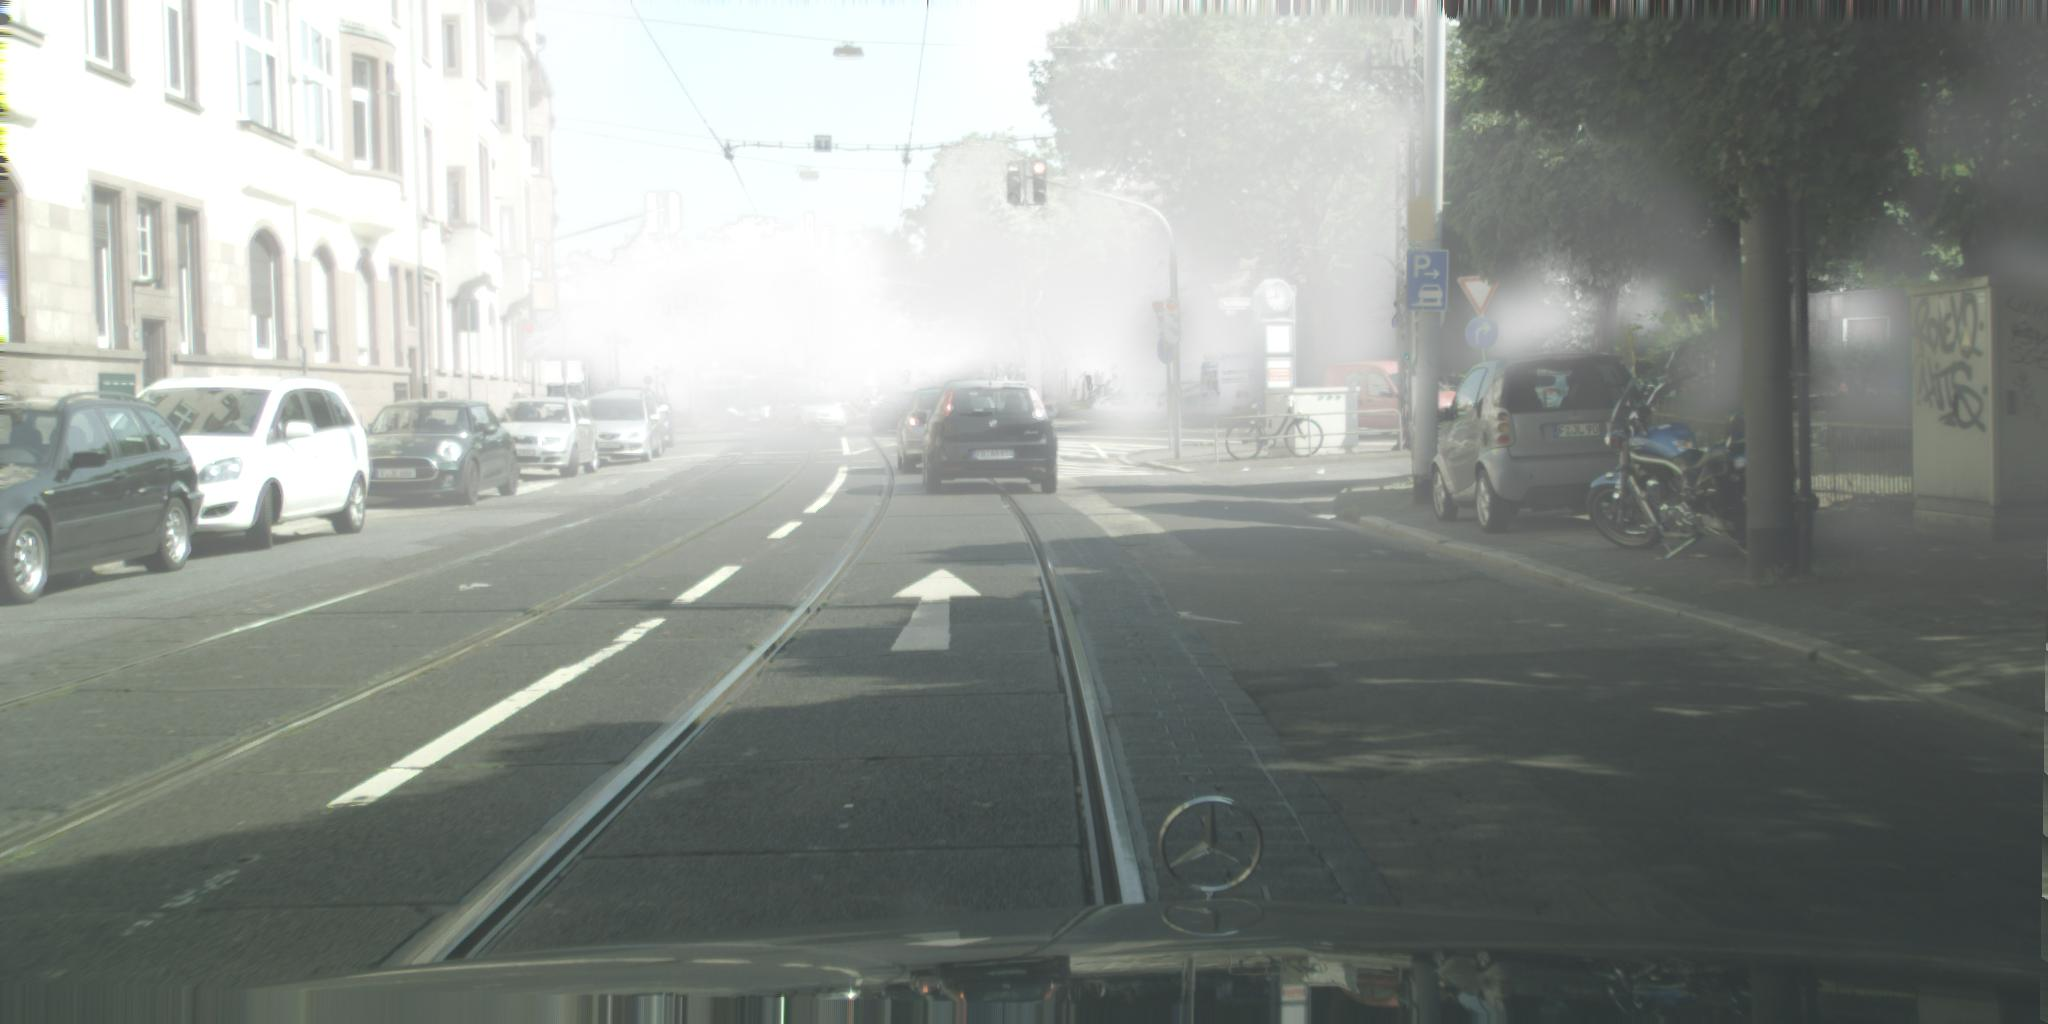bicycle: (1226, 394, 1324, 462)
car: (115, 376, 372, 552), (1, 389, 205, 606), (1432, 353, 1650, 534), (362, 398, 521, 507), (916, 380, 1058, 498), (1324, 360, 1459, 439), (492, 397, 601, 481), (896, 388, 995, 475), (580, 388, 664, 462), (687, 387, 775, 434), (775, 392, 848, 434), (869, 393, 921, 434), (644, 398, 675, 448), (829, 396, 858, 408)
motorcycle: (1588, 355, 1766, 563)
truck: (541, 359, 596, 421)
